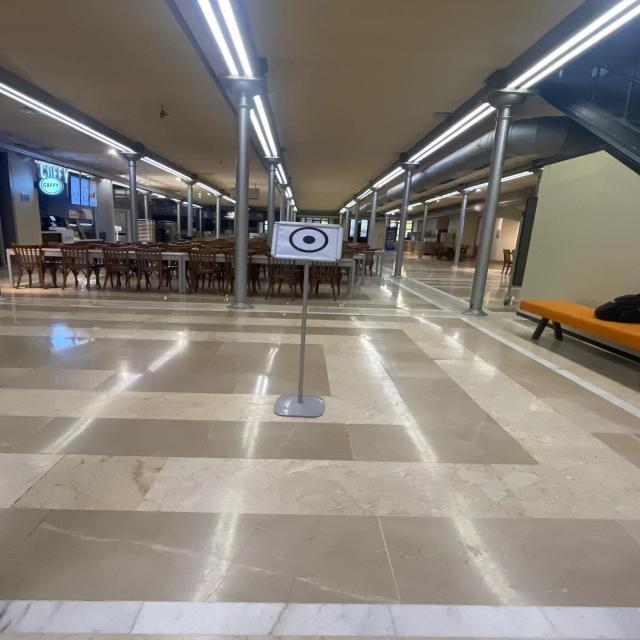Target: (265, 208, 354, 274)
inner: (298, 228, 324, 252)
